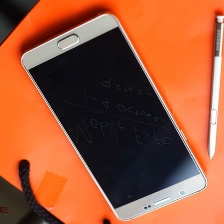phone: (16, 7, 208, 223)
